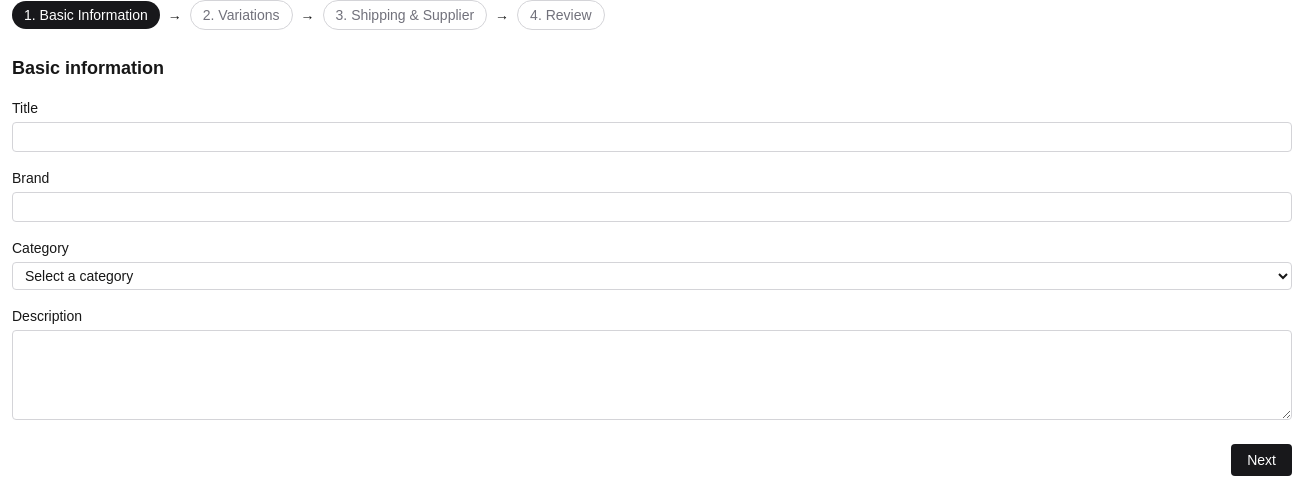
Test: VariationsStep › requires at least one variation
In the field labelled "Title": (652, 137) x1=12 y1=122 x2=1292 y2=152, type "Wireless Mouse"
In the field labelled "Brand": (652, 207) x1=12 y1=192 x2=1292 y2=222, type "Acme"
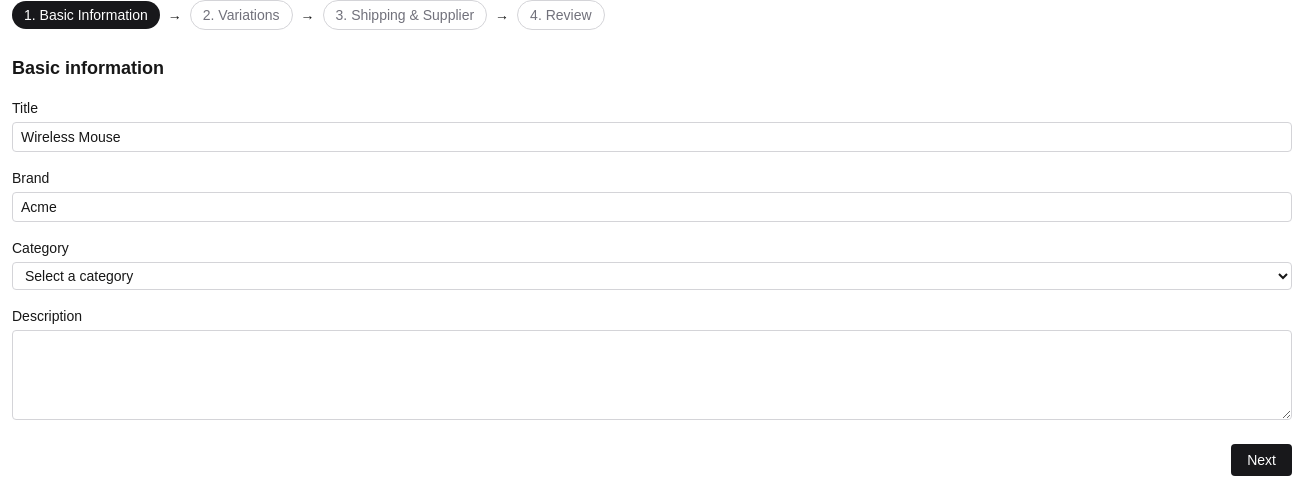
Select "Beauty" in the dropdown labelled "Category": (652, 276) x1=12 y1=262 x2=1292 y2=290
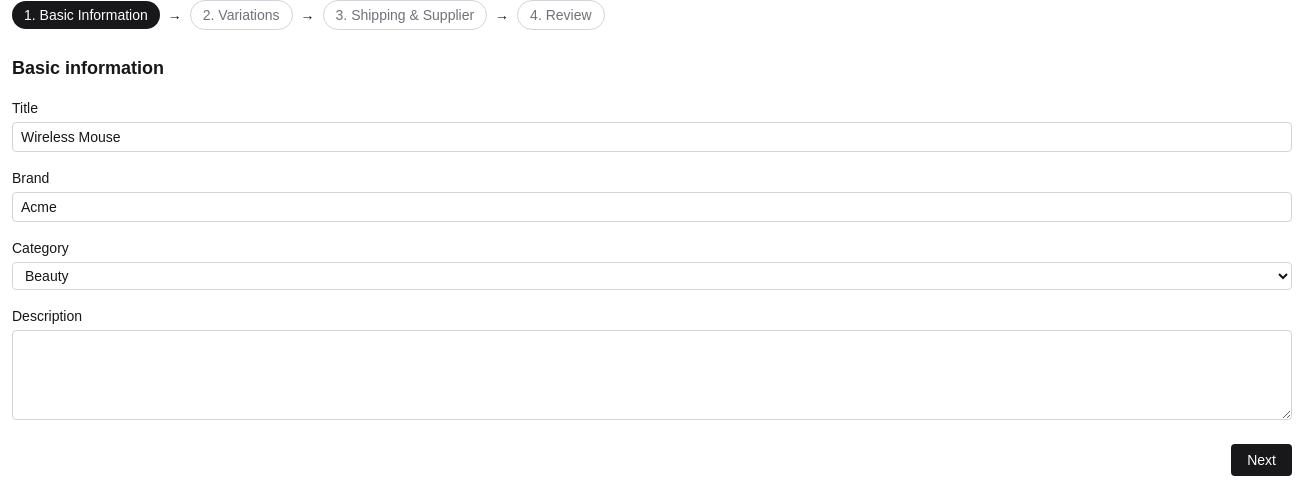
In the text box labelled "Description": (652, 375) x1=12 y1=330 x2=1292 y2=420, type "A reliable wireless mouse with an ergonomic design and long battery life."
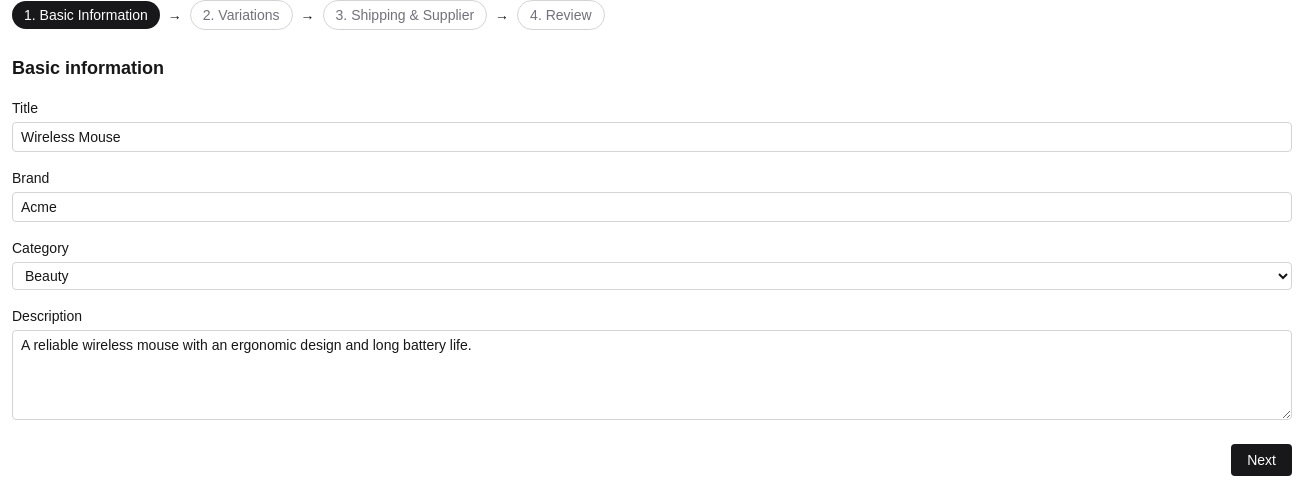
Click the button "Next": (1262, 460) x1=1231 y1=444 x2=1292 y2=476
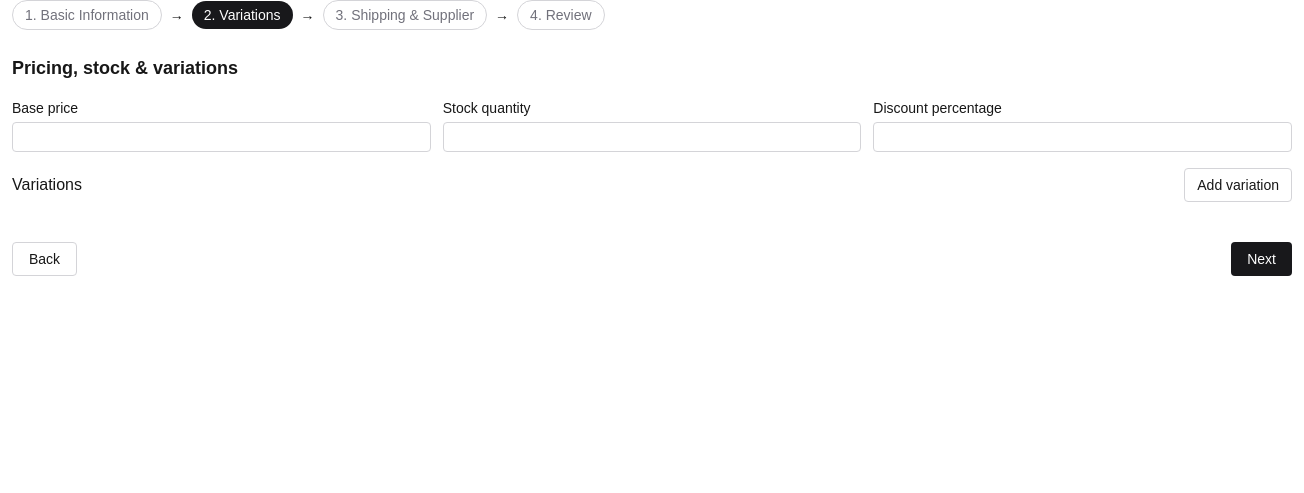
Expected: the heading "Pricing, stock & variations" is shown, x1=12 y1=58 x2=238 y2=78
Click the button "Add variation": (1238, 185) x1=1184 y1=168 x2=1292 y2=202
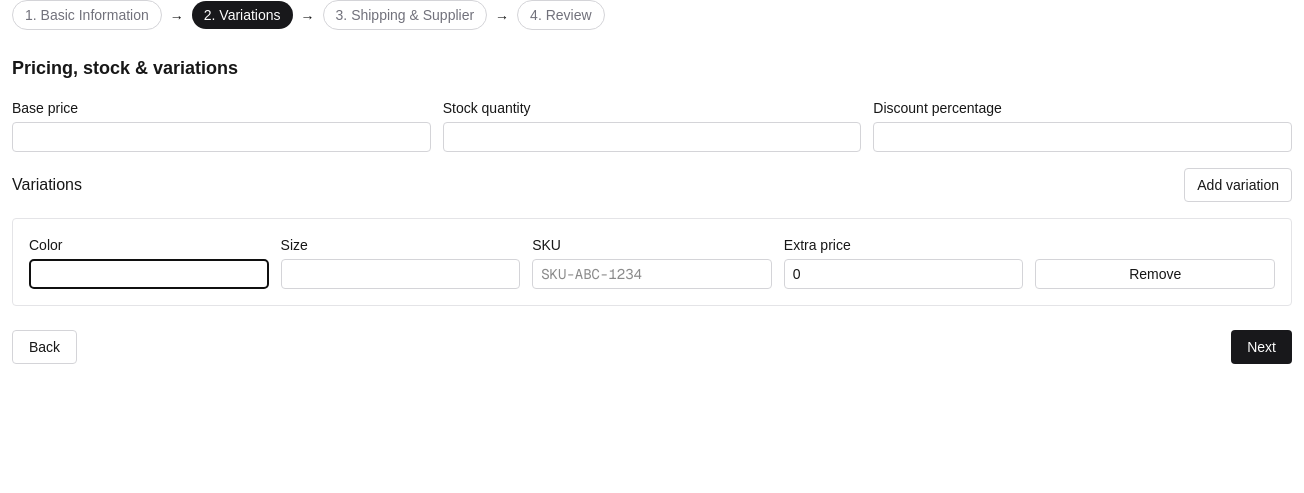
Click the button "Remove": (1155, 274) x1=1035 y1=259 x2=1275 y2=289
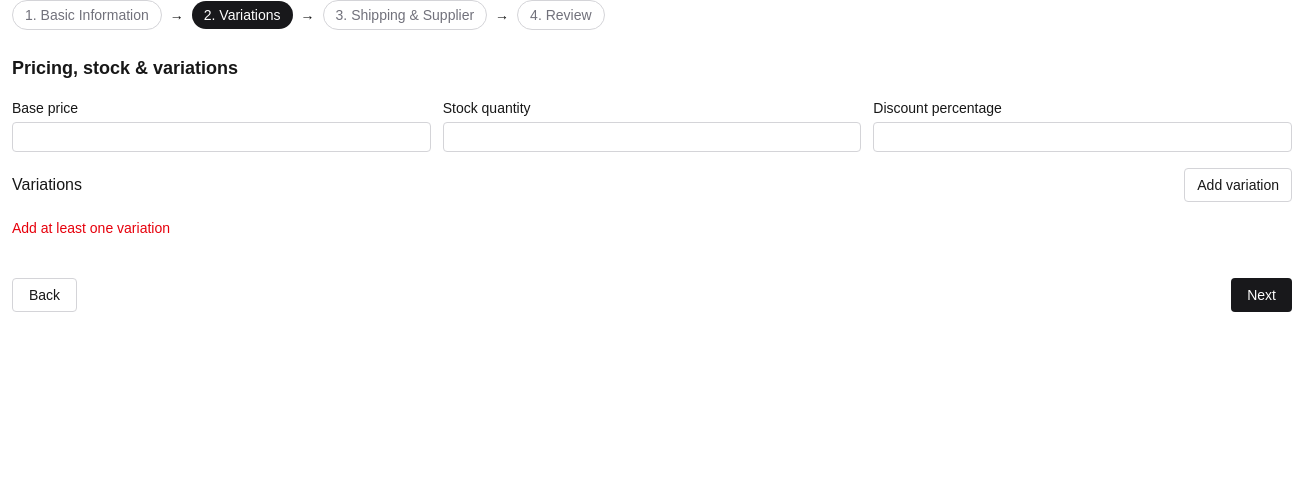
Expected: the text "Add at least one variation" is shown, x1=12 y1=220 x2=170 y2=236
